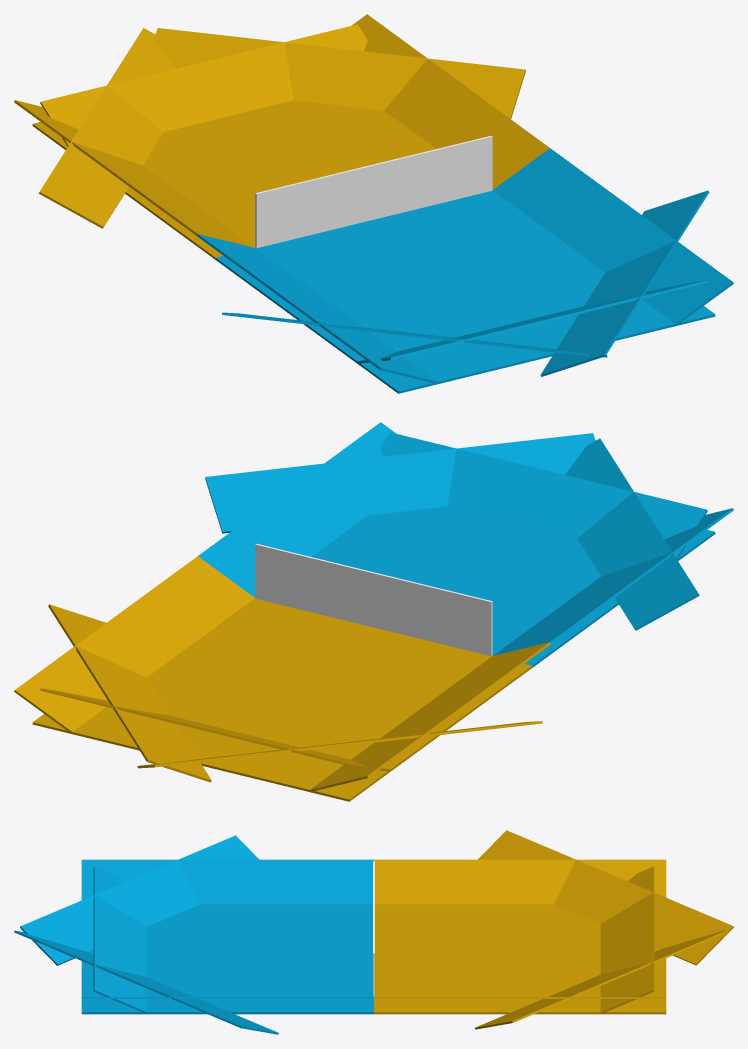
File: Area.fbx
3 views of the same model, one above another, from view 1: azimuth 30°, elevation 25°; view 2: azimuth 150°, elevation 25°; view 3: azimuth 270°, elevation 25° (orthographic). The views are drawn at different scales.
Visible parts, largest first — view 1: Base, Base_1, Ramp25__4_, Net, Ramp25__2__1, Ramp25_1, Ramp25__1__1, Ramp25__3__1, Ramp25__1_, Ramp25__3_, Ramp25__4__1, Ramp25 (+1 smaller); view 2: Base_1, Base, Ramp25__3__1, Net, Ramp25__1_, Ramp25, Ramp25__4_, Ramp25__2_, Ramp25__2__1, Ramp25__4__1, Ramp25__3_, Ramp25_1 (+1 smaller); view 3: Base_1, Base, Ramp25__4__1, Ramp25__3_, Ramp25__1__1, Ramp25__2_, Ramp25_1, Ramp25, Ramp25__1_, Ramp25__2__1, Ramp25__4_, Ramp25__3__1.
Boxes of the visible parts, box(x1,y1,x2,y2) form: Base: box(215, 190, 715, 393); Base_1: box(32, 100, 435, 259); Ramp25__4_: box(493, 148, 733, 325); Net: box(255, 135, 492, 248); Ramp25__2__1: box(154, 28, 525, 118); Ramp25_1: box(40, 24, 367, 146); Ramp25__1__1: box(38, 28, 175, 228); Ramp25__3__1: box(351, 14, 549, 189); Ramp25__1_: box(540, 190, 709, 376); Ramp25__3_: box(197, 234, 437, 383); Ramp25__4__1: box(14, 100, 254, 247); Ramp25: box(357, 280, 707, 363); Base_1: box(32, 598, 532, 801); Base: box(312, 506, 715, 667); Ramp25__3__1: box(14, 556, 254, 731); Net: box(255, 543, 492, 656); Ramp25__1_: box(205, 433, 595, 533); Ramp25: box(380, 432, 707, 559); Ramp25__4_: box(198, 422, 396, 597); Ramp25__2_: box(565, 438, 699, 630); Ramp25__2__1: box(48, 604, 211, 782); Ramp25__4__1: box(310, 642, 550, 791); Ramp25__3_: box(493, 508, 733, 655); Ramp25_1: box(40, 688, 390, 771); Base_1: box(374, 904, 666, 1014); Base: box(81, 904, 373, 1014); Ramp25__4__1: box(374, 859, 666, 904); Ramp25__3_: box(81, 859, 373, 904); Ramp25__1__1: box(478, 830, 733, 965); Ramp25__2_: box(20, 835, 258, 965); Ramp25_1: box(600, 866, 654, 1013); Ramp25: box(93, 866, 147, 1013); Ramp25__1_: box(14, 930, 278, 1034); Ramp25__2__1: box(475, 930, 727, 1029); Ramp25__4_: box(81, 997, 373, 998); Ramp25__3__1: box(374, 997, 666, 998).
Size of the model in its own units: 2387 by 255 by 3693.
